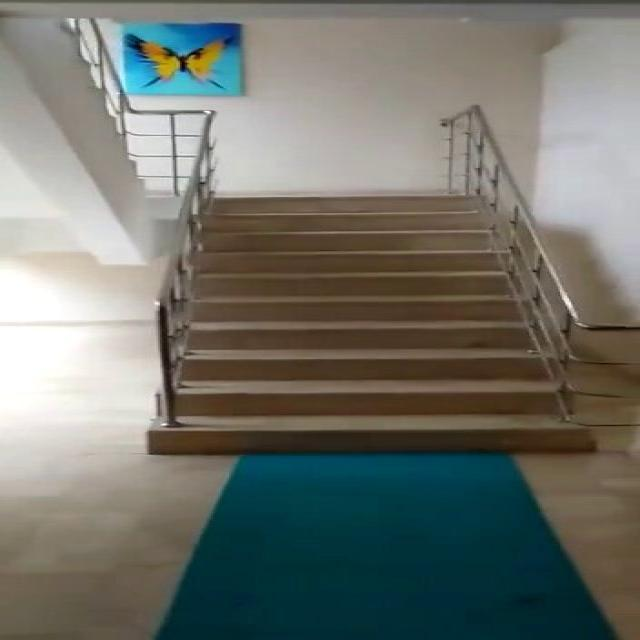stair: (172, 195, 597, 458)
